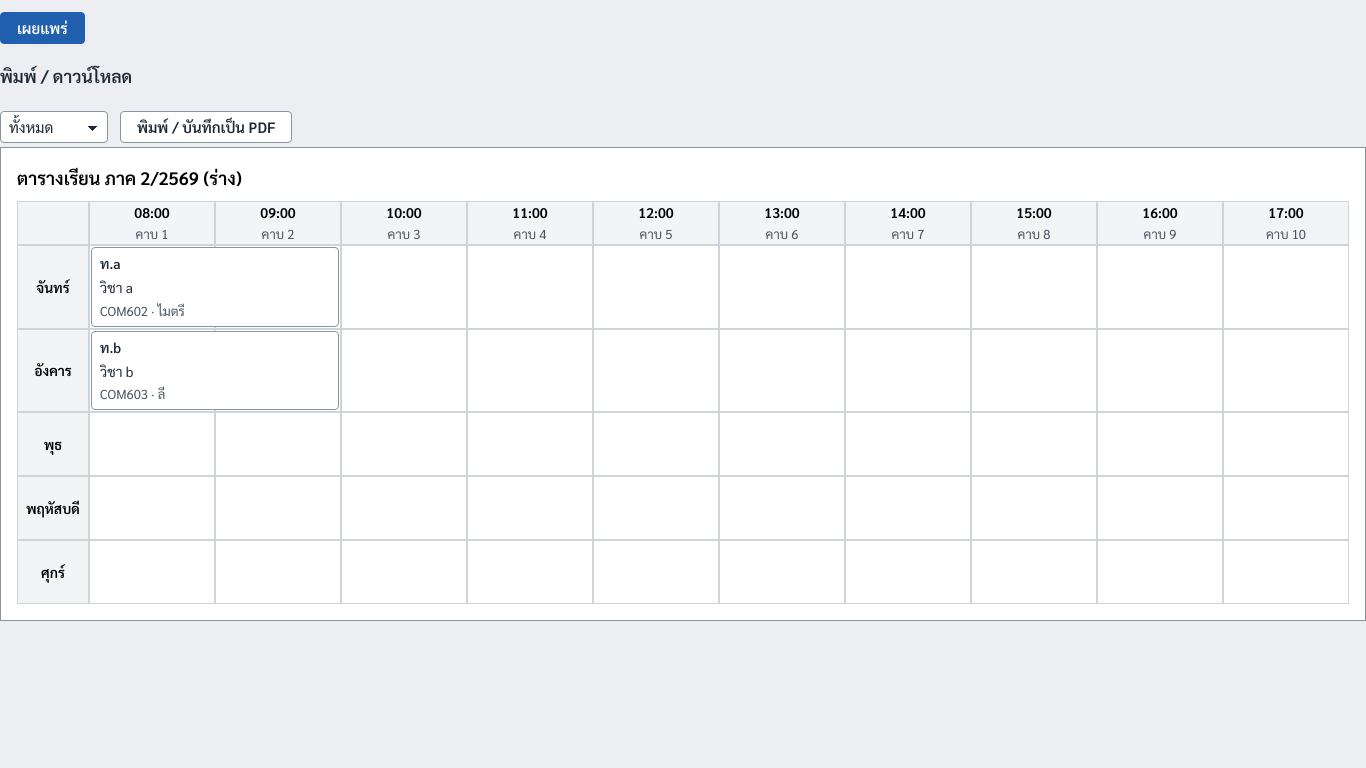
Scenario: ขั้น 9 เผยแพร่ + พิมพ์ › HEAD: ต้องยืนยันก่อน แล้ว API ปฏิเสธเมื่อยังทำขั้น 1–8 ไม่ครบ (STEP_INCOMPLETE) แสดงเป็น Toast ผิดพลาด
Click the button "เผยแพร่". click: (42, 28)
box: [0,12,85,44]
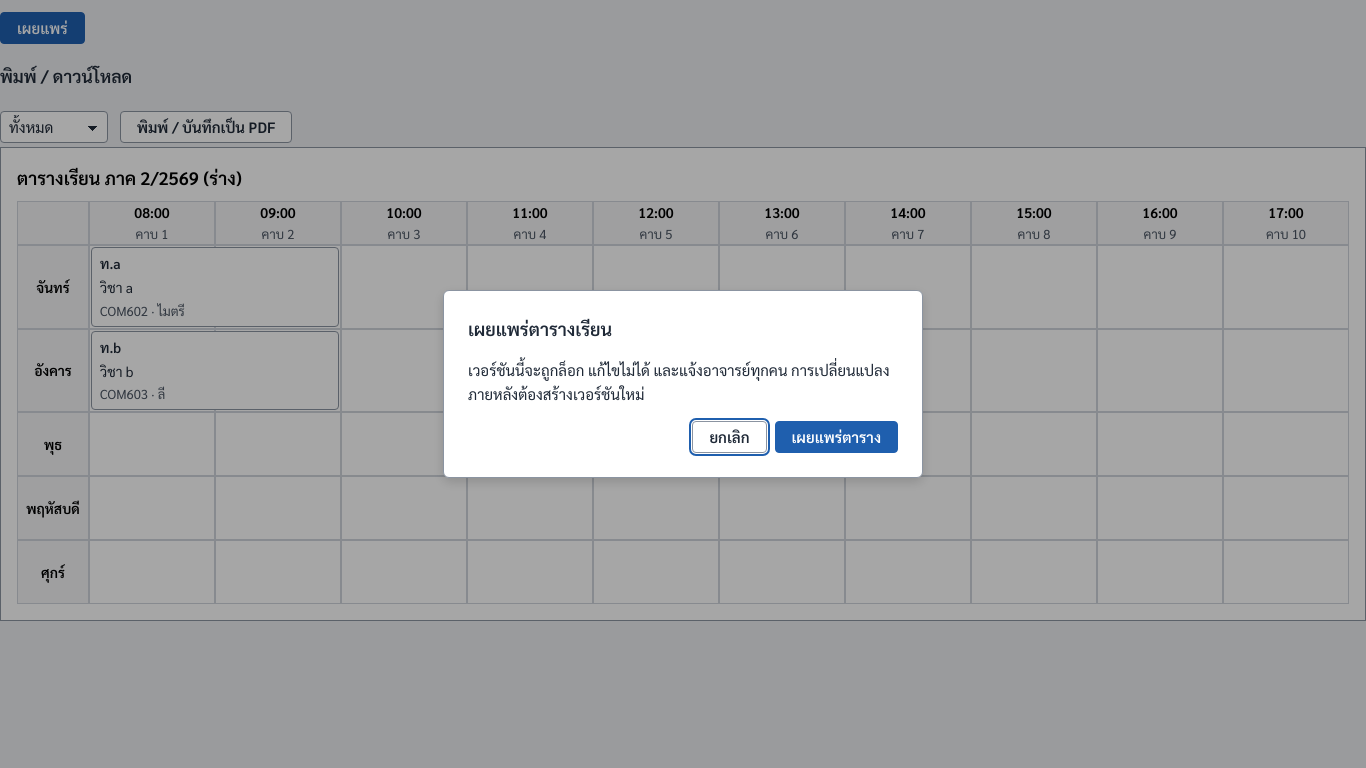
Click the button "เผยแพร่ตาราง". click: (836, 437)
box: [774,421,898,453]
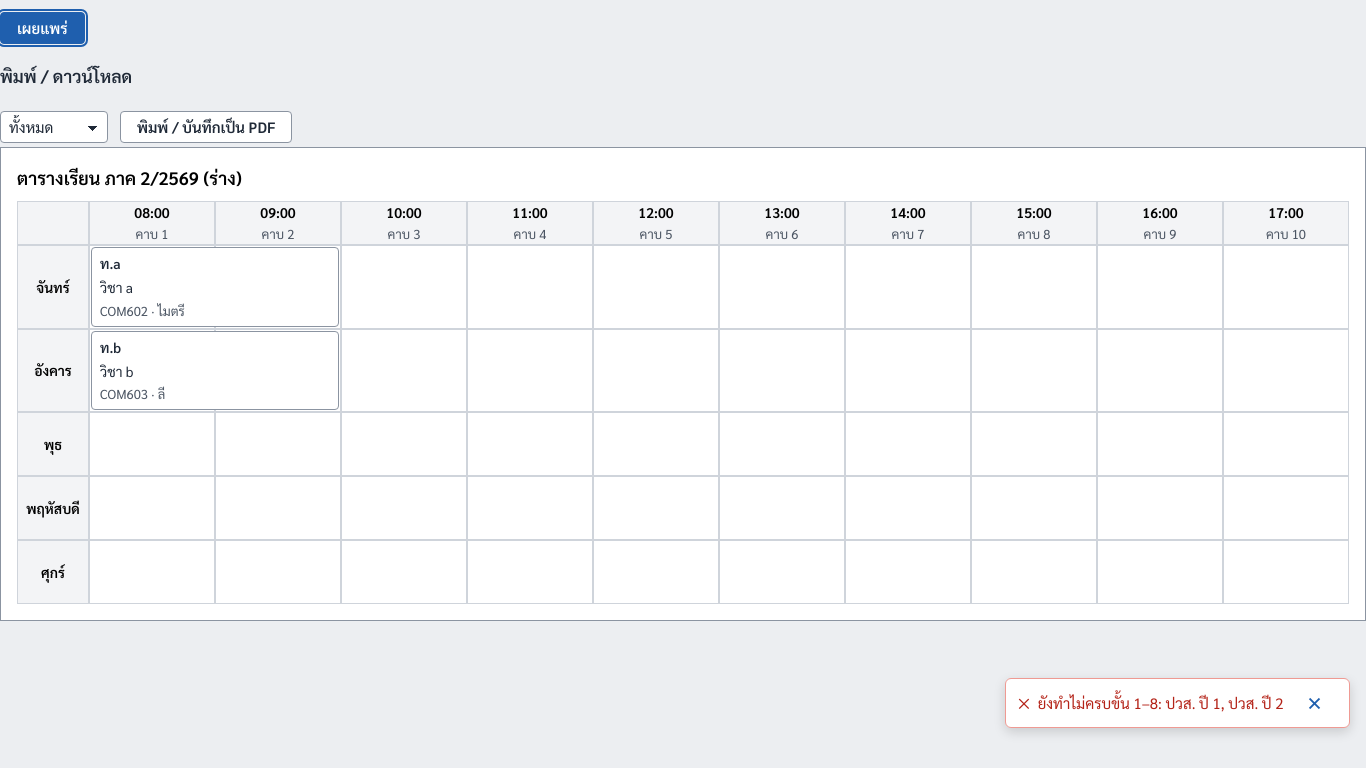
Result: the message shows "ยังทำไม่ครบขั้น 1–8" at [1038,693,1284,712]
